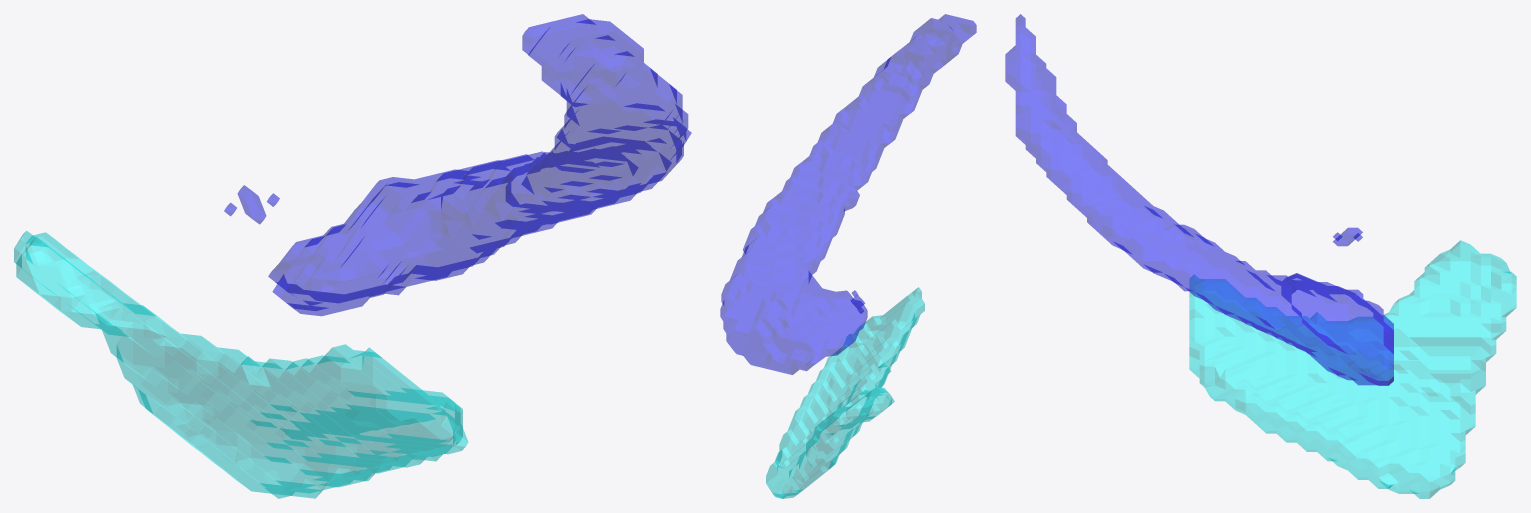
3 renders of one model, left to right at view 1: azimuth 30°, elevation 25°; view 2: azimuth 150°, elevation 25°; view 3: azimuth 270°, elevation 25°, orthographic. The views are drawn at different scales.
Parts seen in each view (by area): view 1: CA4DG, ERC; view 2: CA4DG, ERC; view 3: ERC, CA4DG.
Part boxes in pixels (x1,y1,x2,y2): CA4DG: (224,14,691,316); ERC: (14,231,468,498); CA4DG: (720,14,976,374); ERC: (766,287,924,498); ERC: (1189,240,1516,498); CA4DG: (1005,14,1393,385).
Bounding box in the file's own units: 21.7 × 35 × 35.
